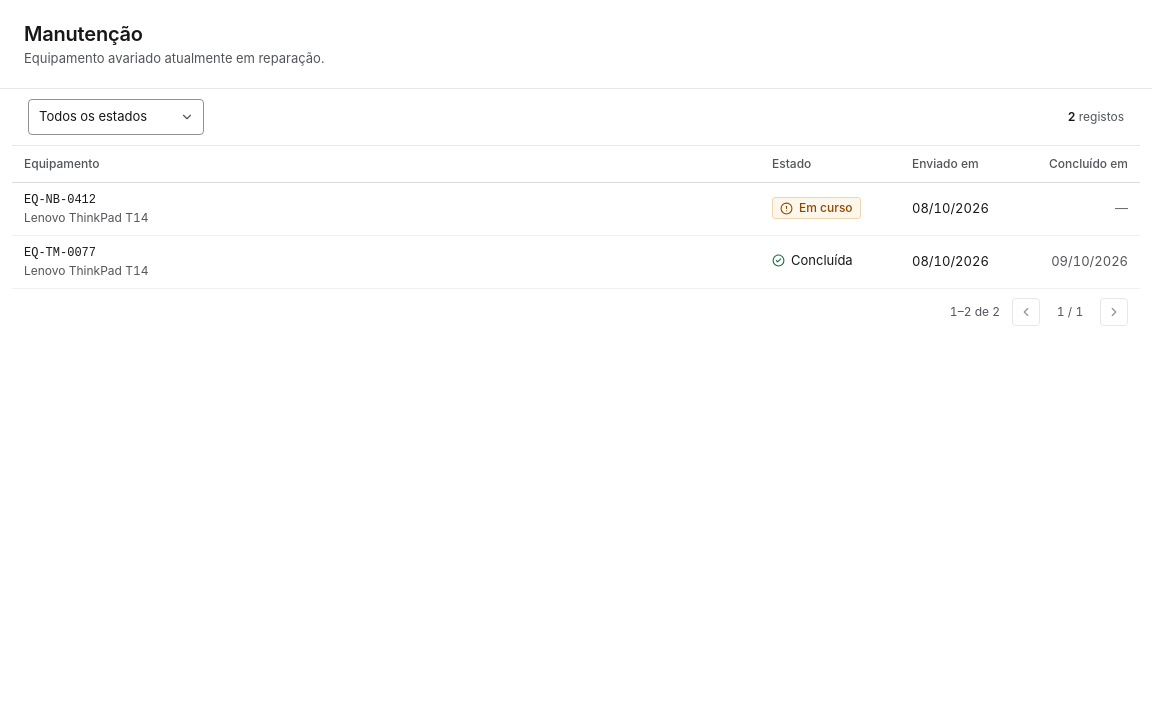
it: MaintenancePage › lists the real maintenance states, each record opening from a real button
Expected: the text "Em curso" is shown, [772,197,861,219]
Expected: the text "Concluída" is shown, [772,251,853,270]
Click the button with aria-label "Abrir manutenção de EQ-NB-0412": (86, 208) [24,190,148,226]
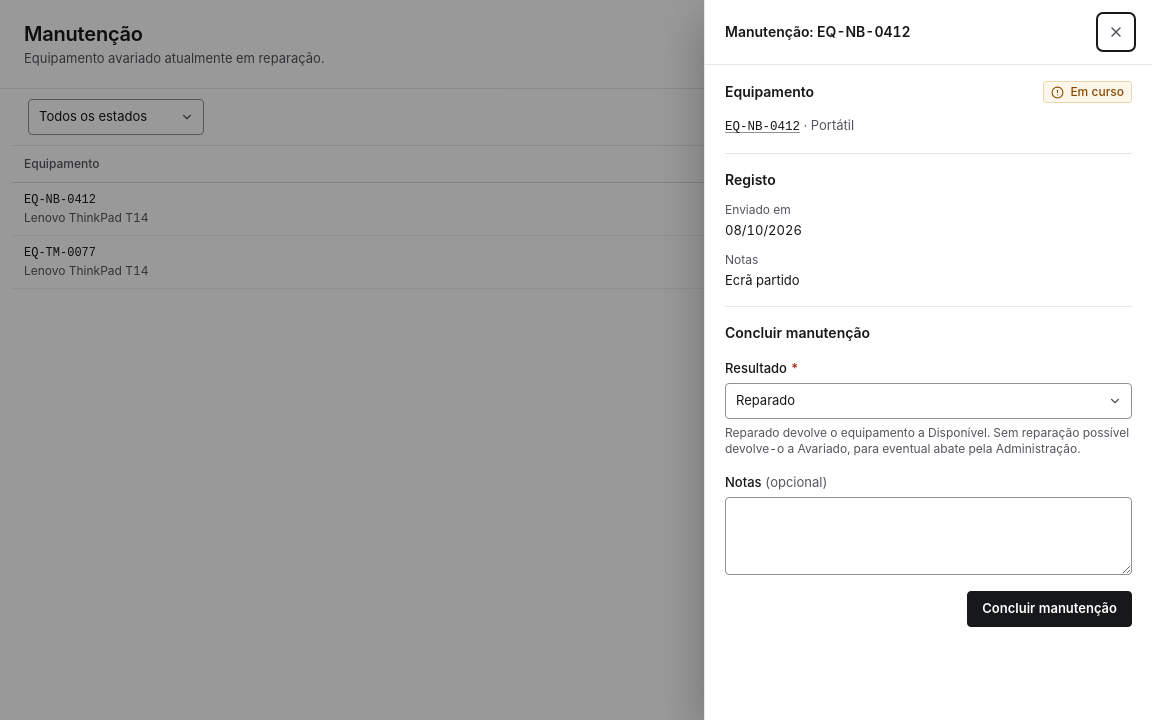
Expected: the text "Ecrã partido" is shown, [725,272,800,288]
